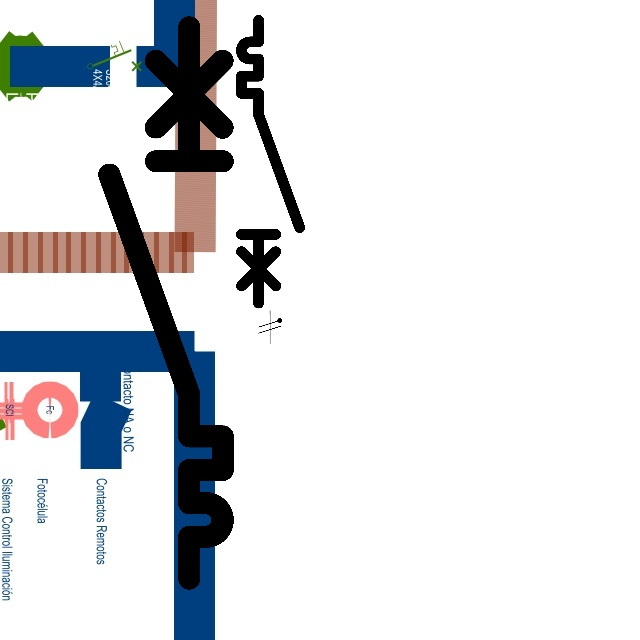interruptor_termomagnetico: (95, 13, 237, 593), (234, 13, 307, 310)
